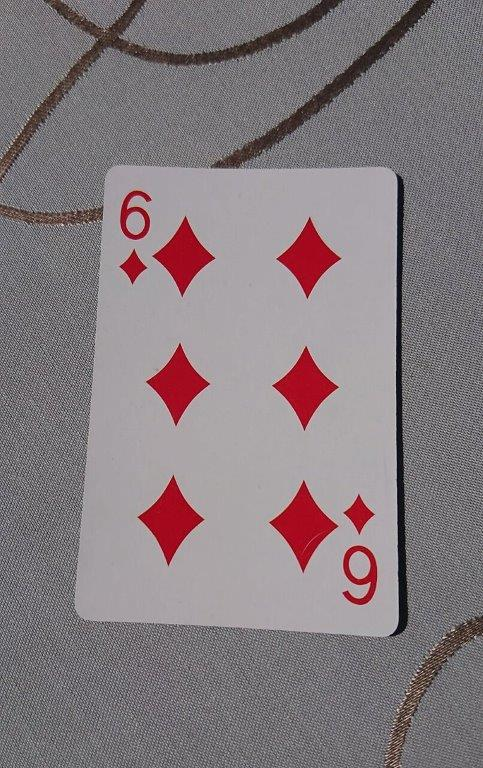6D: (72, 163, 403, 639)
